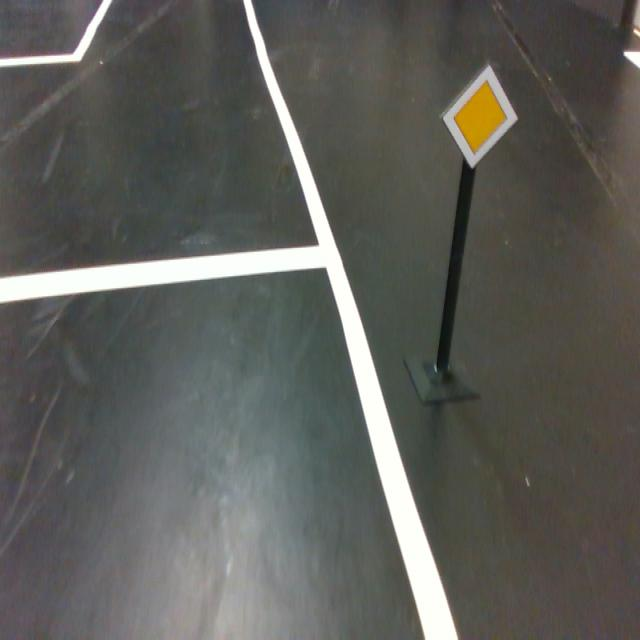priority-sign: (439, 63, 518, 170)
